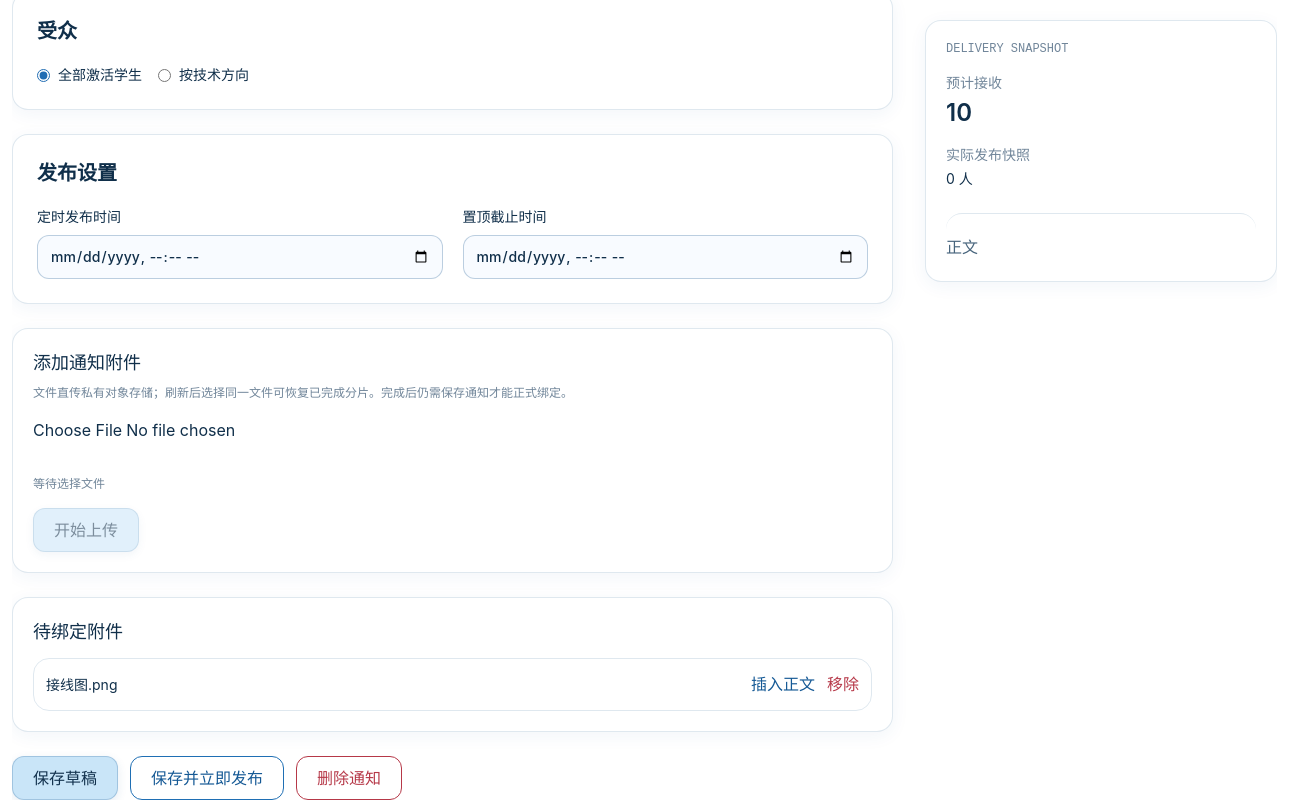
Scenario: announcement UI › inserts a validated image attachment into Markdown
(page scrolled)
Click the button "插入正文". click: click(783, 685)
box: x1=751 y1=671 x2=815 y2=698
(page scrolled)
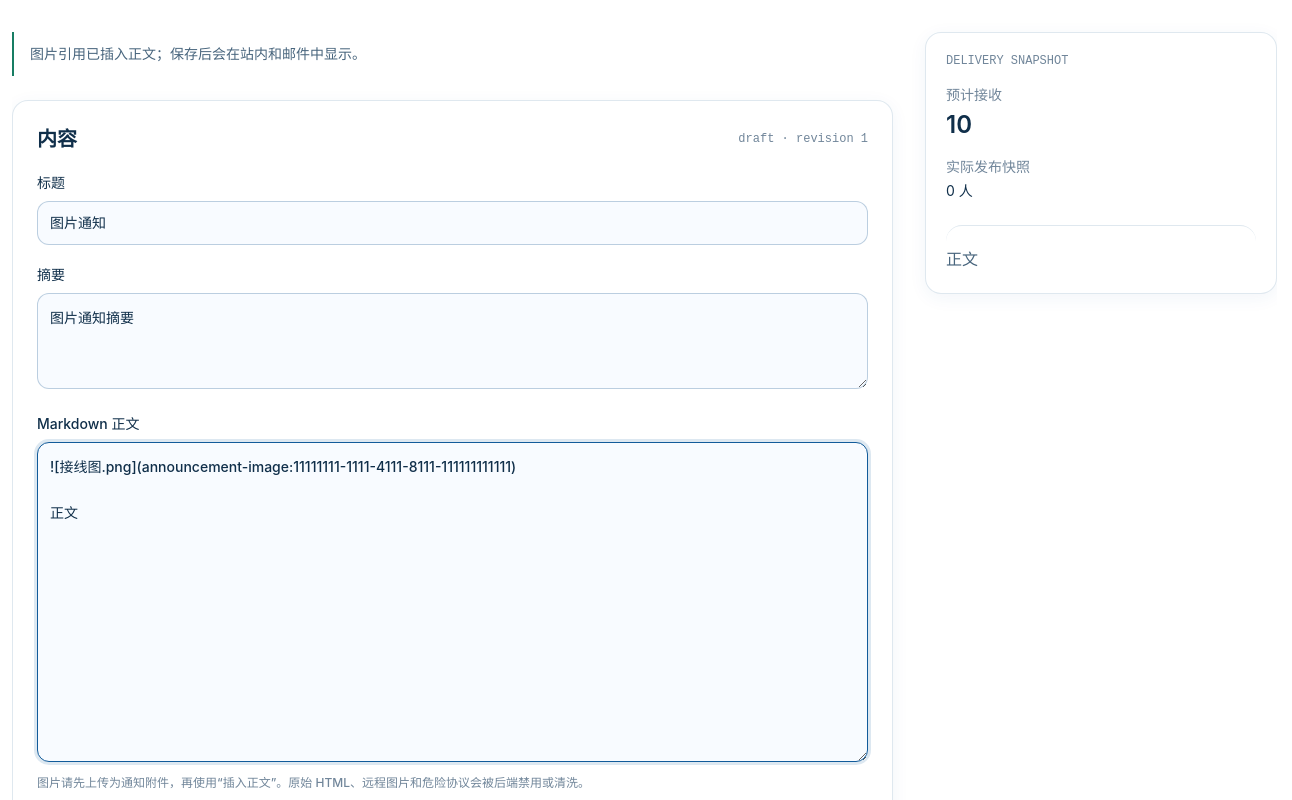
Result: the text "图片引用已插入正文；保存后会在站内和邮件中显示。" is shown at x1=12 y1=32 x2=893 y2=76
